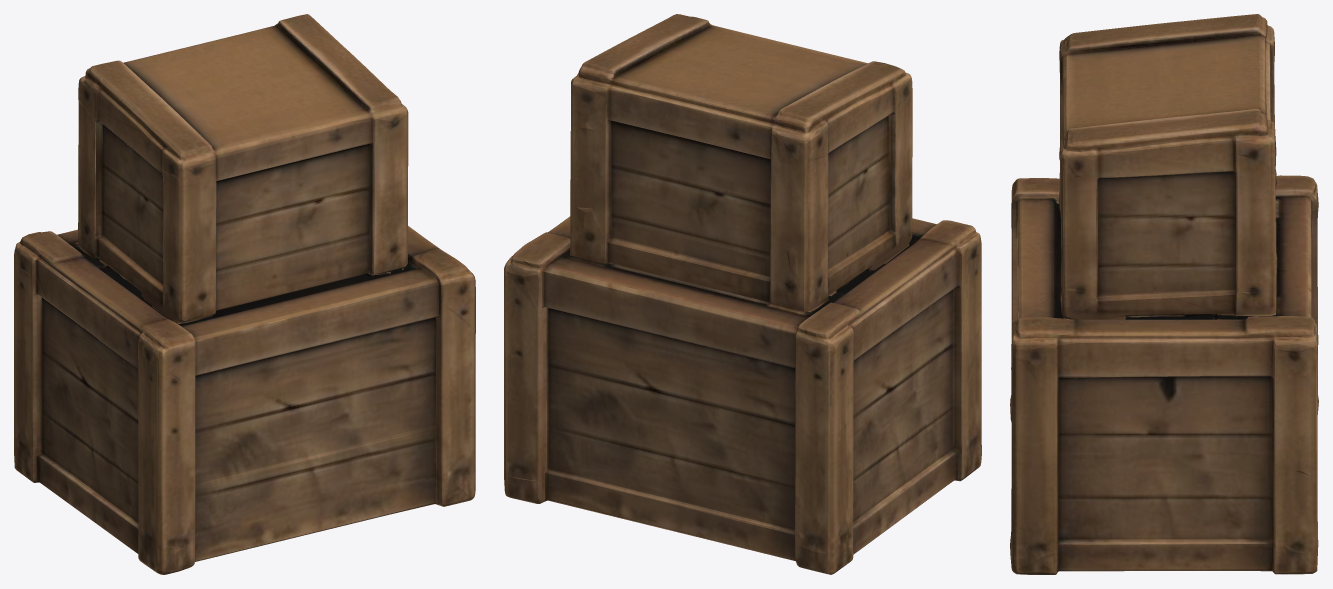
Rendered from crates-hd.glb.
The picture shows the model from 3 angles, left to right: view 1: azimuth 30°, elevation 25°; view 2: azimuth 150°, elevation 25°; view 3: azimuth 270°, elevation 25°; orthographic projection. The views are drawn at different scales.
Parts seen in each view (by area): view 1: tmp1oyi2qmd.ply; view 2: tmp1oyi2qmd.ply; view 3: tmp1oyi2qmd.ply.
Boxes of the visible parts, x1,y1,x2,y2 form: tmp1oyi2qmd.ply: (14,14,475,574); tmp1oyi2qmd.ply: (504,14,981,574); tmp1oyi2qmd.ply: (1010,14,1318,574).
Bounding box in the file's own units: 1.63 × 1.99 × 1.31.
1 material, 1 textured.
